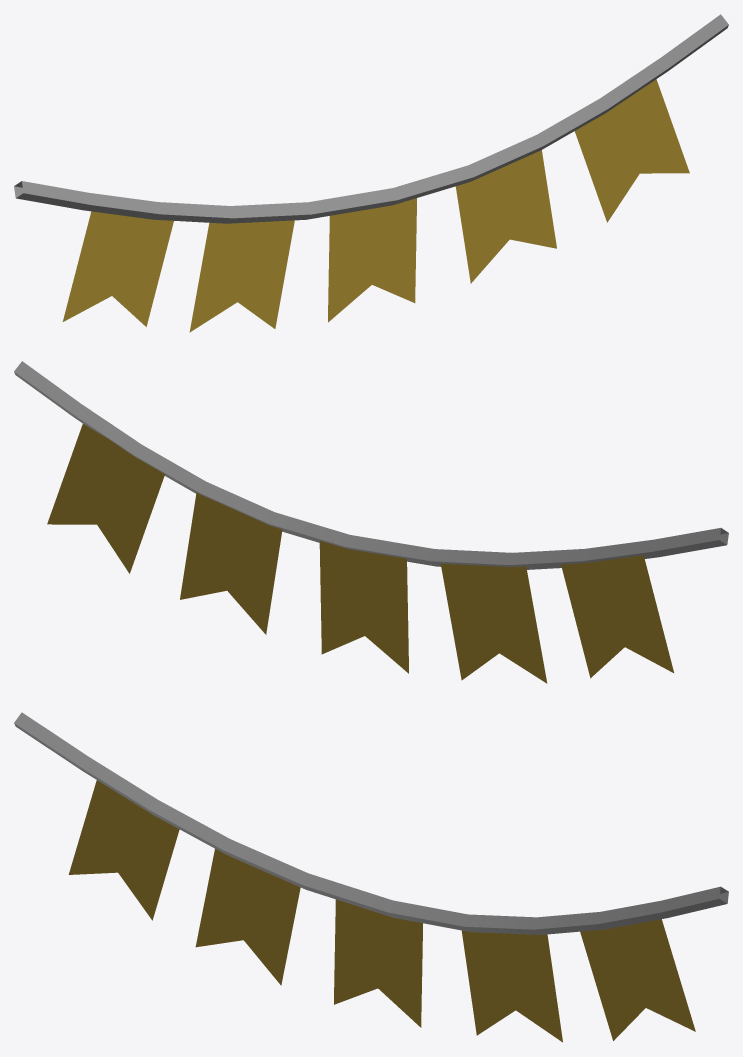
The model's file is flags_02.fbx.
3 views of the same model, one above another, from view 1: azimuth 30°, elevation 25°; view 2: azimuth 150°, elevation 25°; view 3: azimuth 330°, elevation 25° (orthographic).
Visible parts, largest first — view 1: flags_02; view 2: flags_02; view 3: flags_02.
Part boxes in pixels (bbox=[...]): flags_02: bbox=[14, 14, 728, 332]; flags_02: bbox=[14, 361, 728, 683]; flags_02: bbox=[14, 712, 728, 1042].
Size of the model in its own units: 309 by 91.73 by 7.14.
